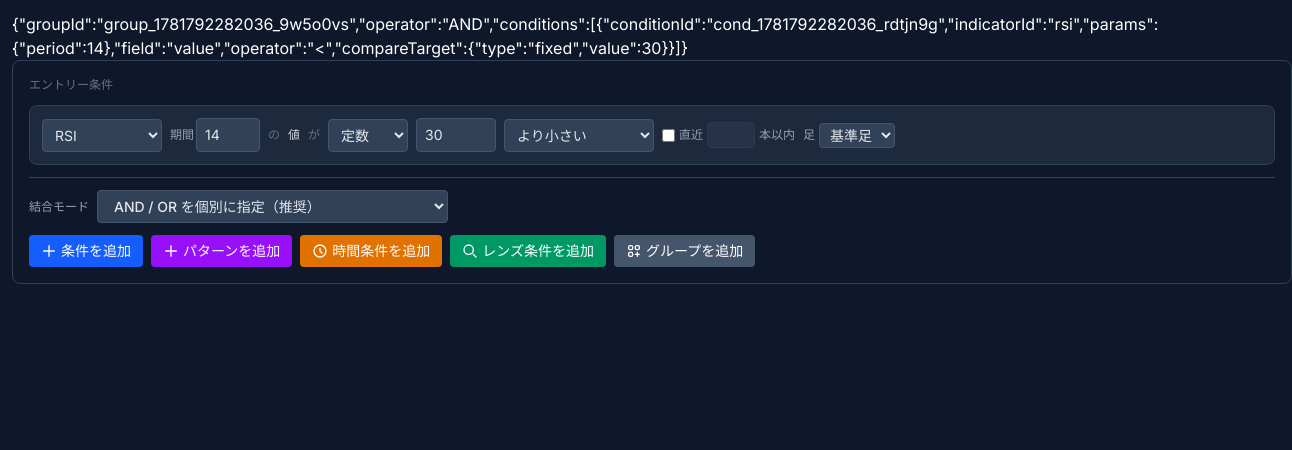
Test: ConditionBuilder（接合点ごとの AND/OR） › 条件を追加すると接合点が1つ現れ、デフォルトは AND
Click the button "条件を追加" at {"x": 86, "y": 251}, box [29,235,143,267]
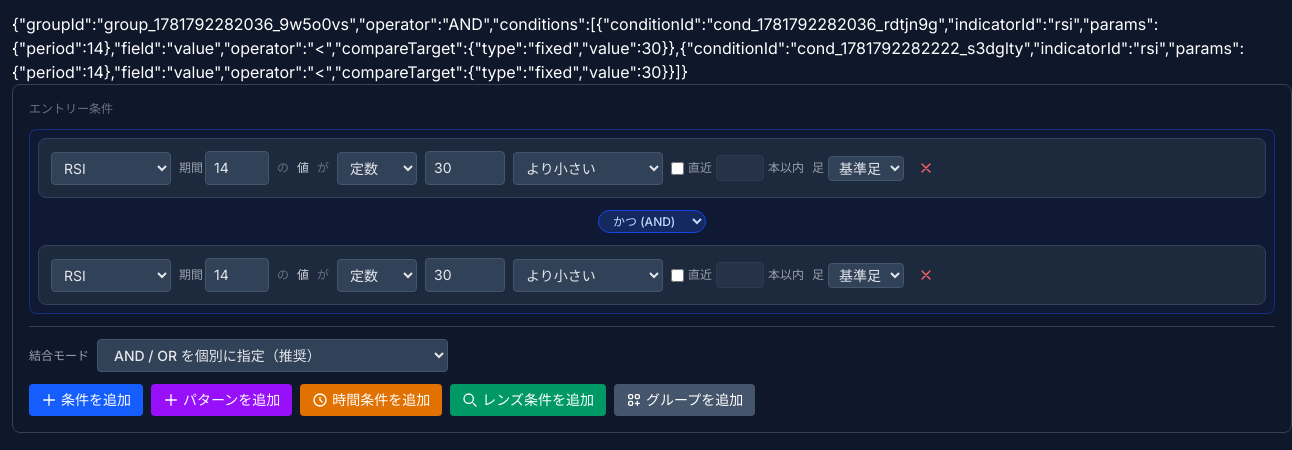
Now the number of dropdowns titled "この接合点の論理条件（かつ / または）" is 1, box [598,210,706,233]
Now the dropdown titled "この接合点の論理条件（かつ / または）" shows "かつ (AND)", box [598,210,706,233]
